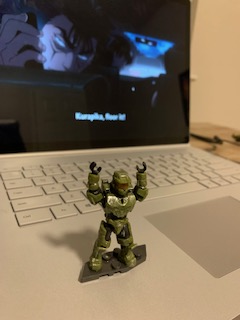chief: (86, 160, 150, 272)
spartan: (87, 162, 150, 274)
up: (85, 161, 150, 219)
